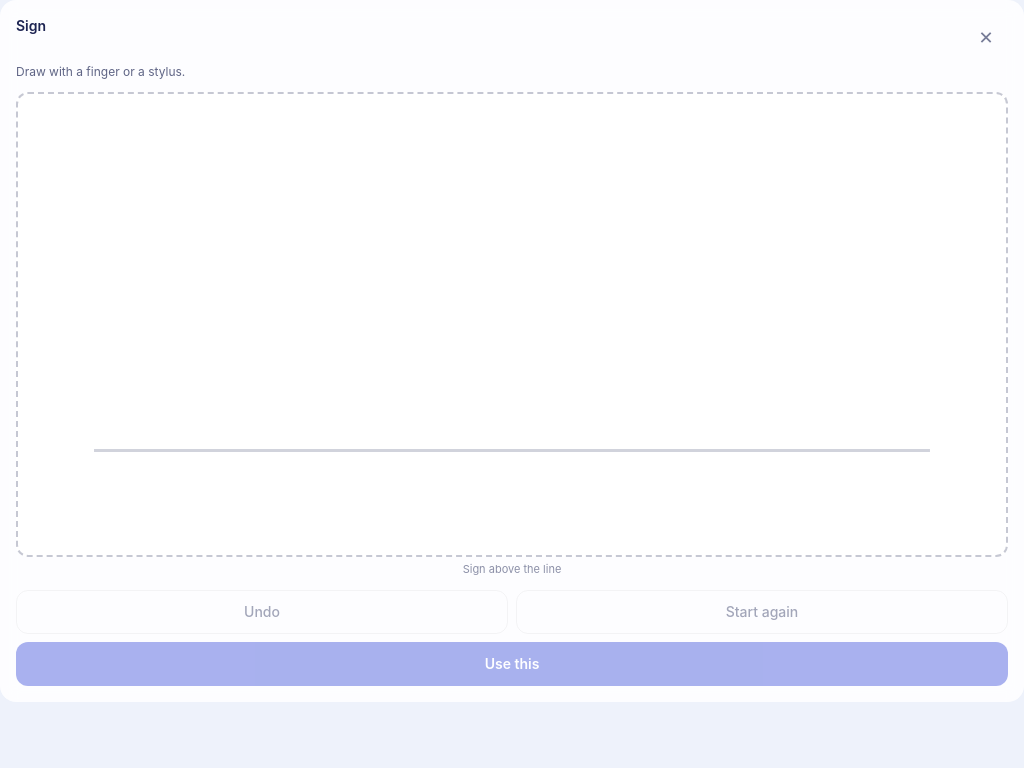
it: Getting it wrong costs one tap (Rule #1) › undoes the last mark and leaves the earlier one
Press the mouse on the icon named "Signing area": (512, 324) 16,92 -> 1008,557
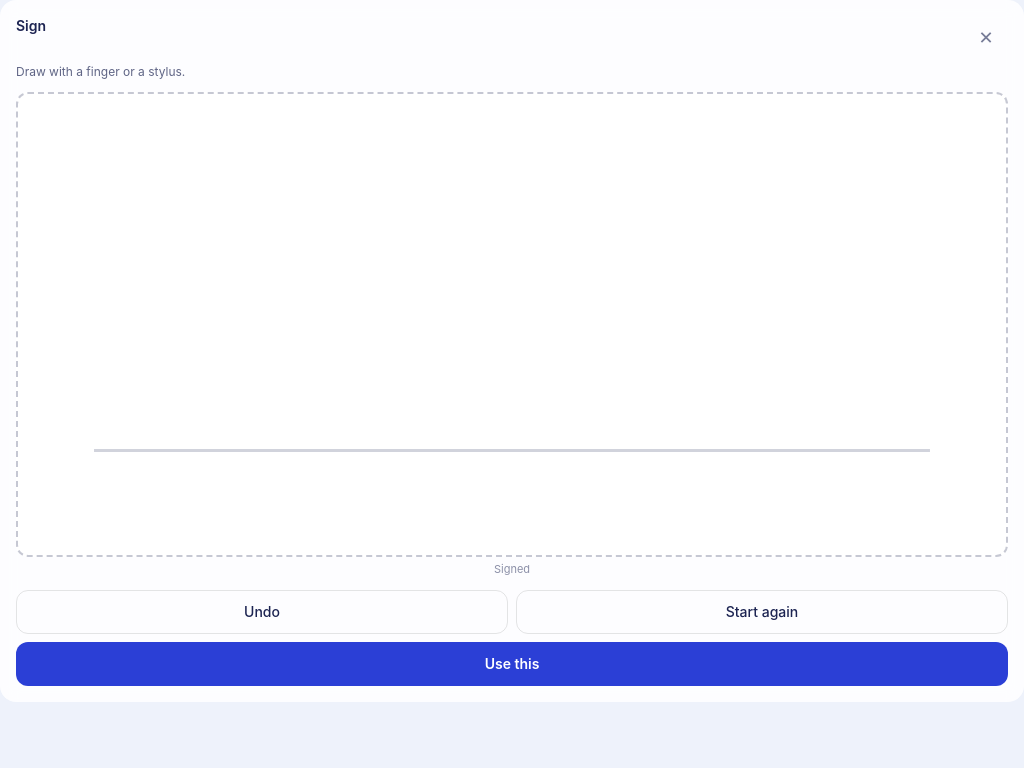
Press the mouse on the icon named "Signing area": (512, 324) 16,92 -> 1008,557
Click the button "Undo": (262, 612) 16,590 -> 508,634
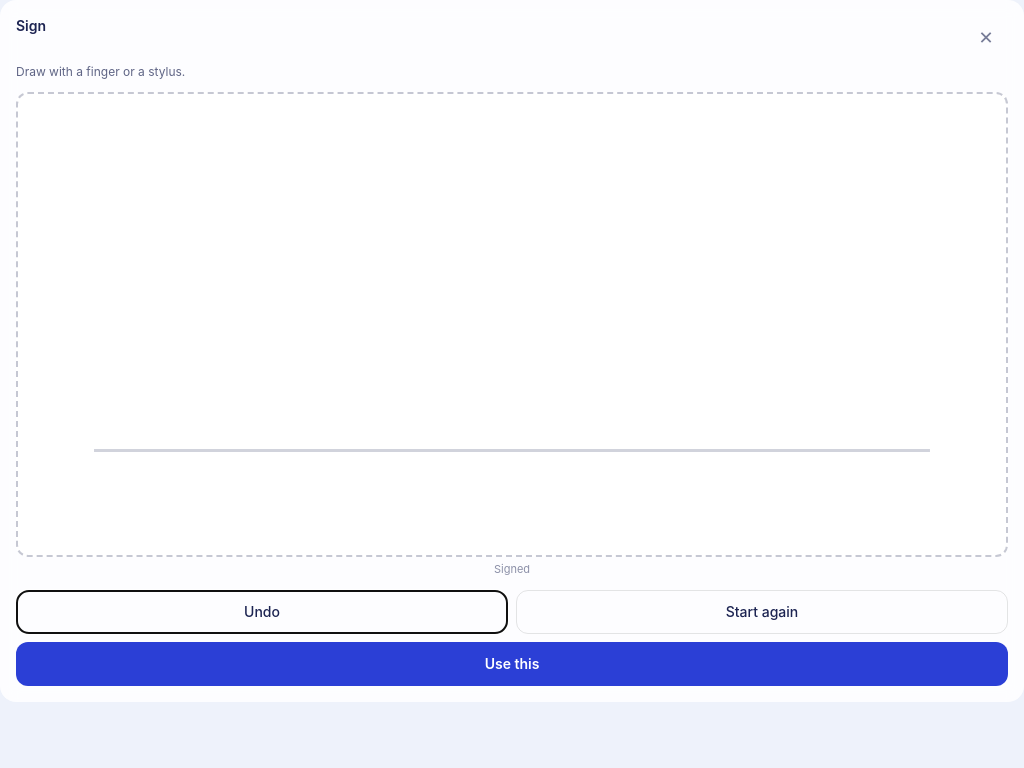
Expected: the button "Use this" is enabled, 16,642 -> 1008,686
Click the button "Undo": (262, 612) 16,590 -> 508,634
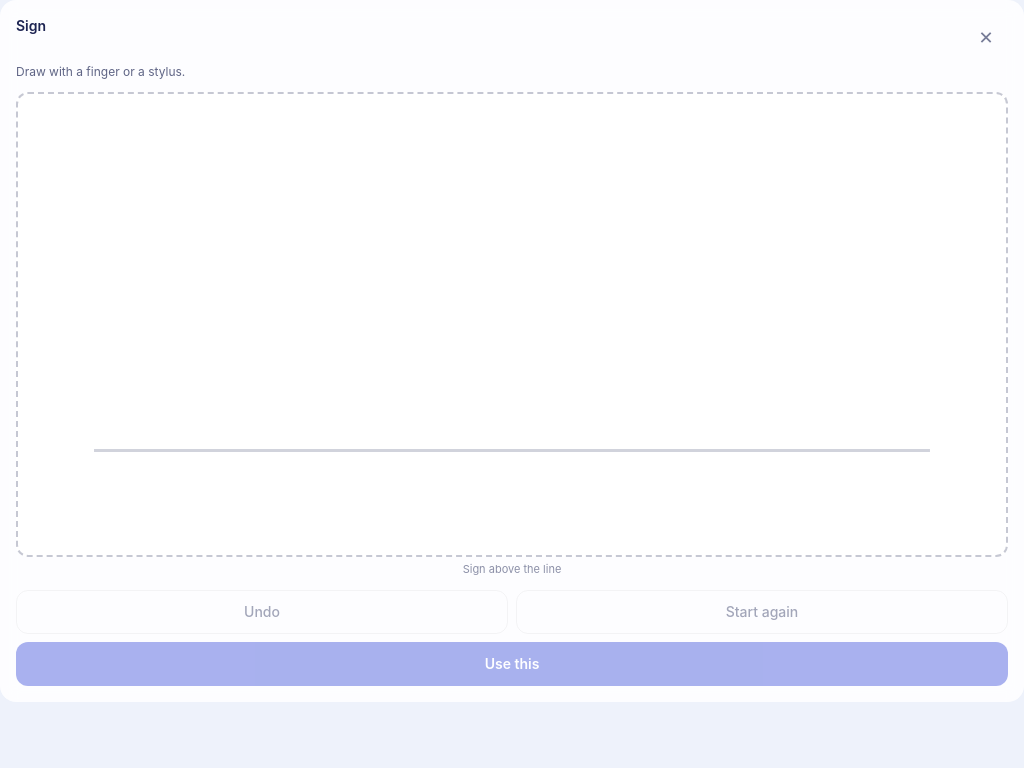
Expected: the button "Use this" is disabled, 16,642 -> 1008,686
